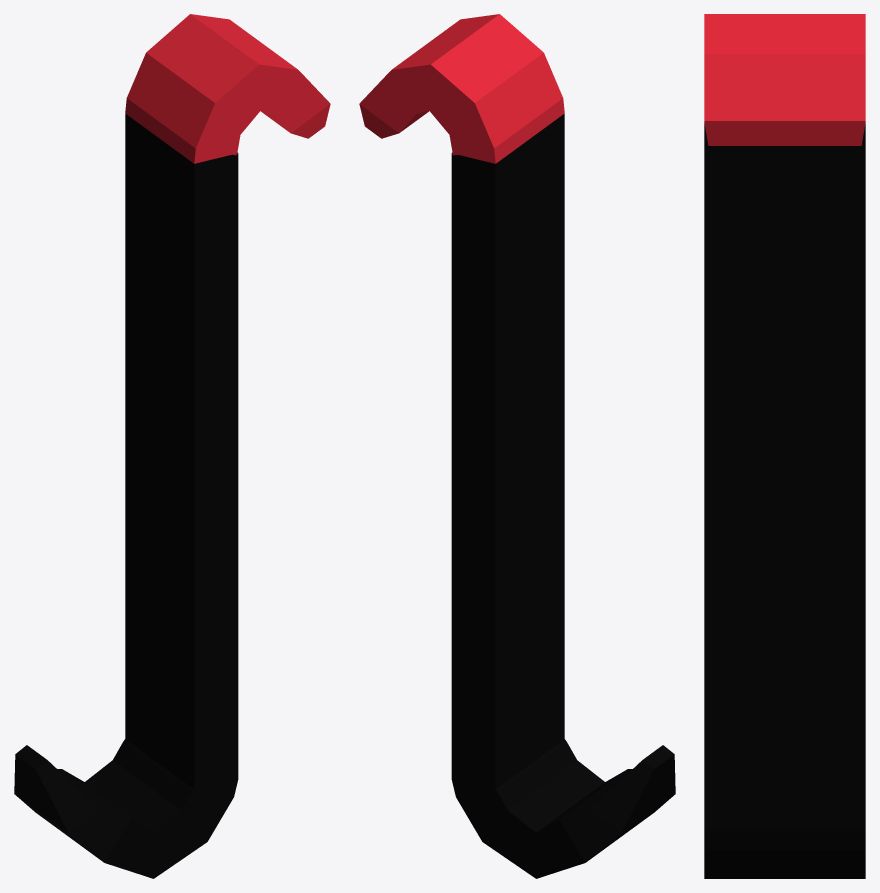
The model's file is Bar.fbx.
The picture shows the model from 3 angles, left to right: view 1: azimuth 30°, elevation 25°; view 2: azimuth 150°, elevation 25°; view 3: azimuth 270°, elevation 25°; orthographic projection. The views are drawn at different scales.
Parts seen in each view (by area): view 1: 平面; view 2: 平面; view 3: 平面.
Part boxes in pixels (x1=…): 平面: x1=14, y1=14, x2=330, y2=878; 平面: x1=359, y1=14, x2=675, y2=878; 平面: x1=704, y1=14, x2=865, y2=878.
Bounding box in the file's own units: 356 × 992 × 158.
